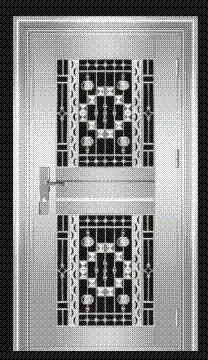door: (25, 30, 186, 348)
